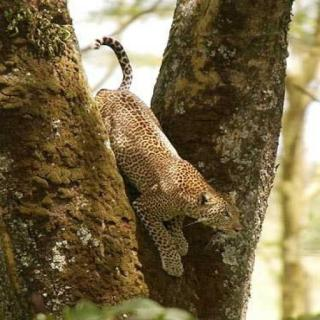Leopard: (54, 54, 265, 286)
